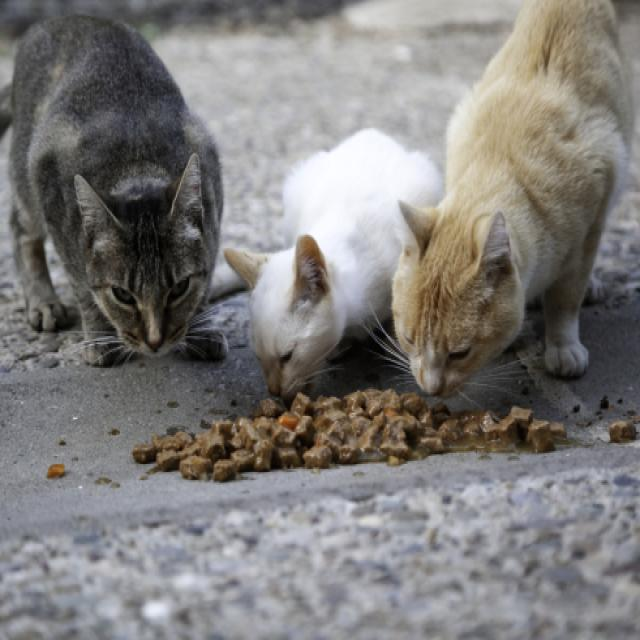cat: (392, 2, 632, 397), (0, 17, 226, 364), (225, 130, 444, 400)
